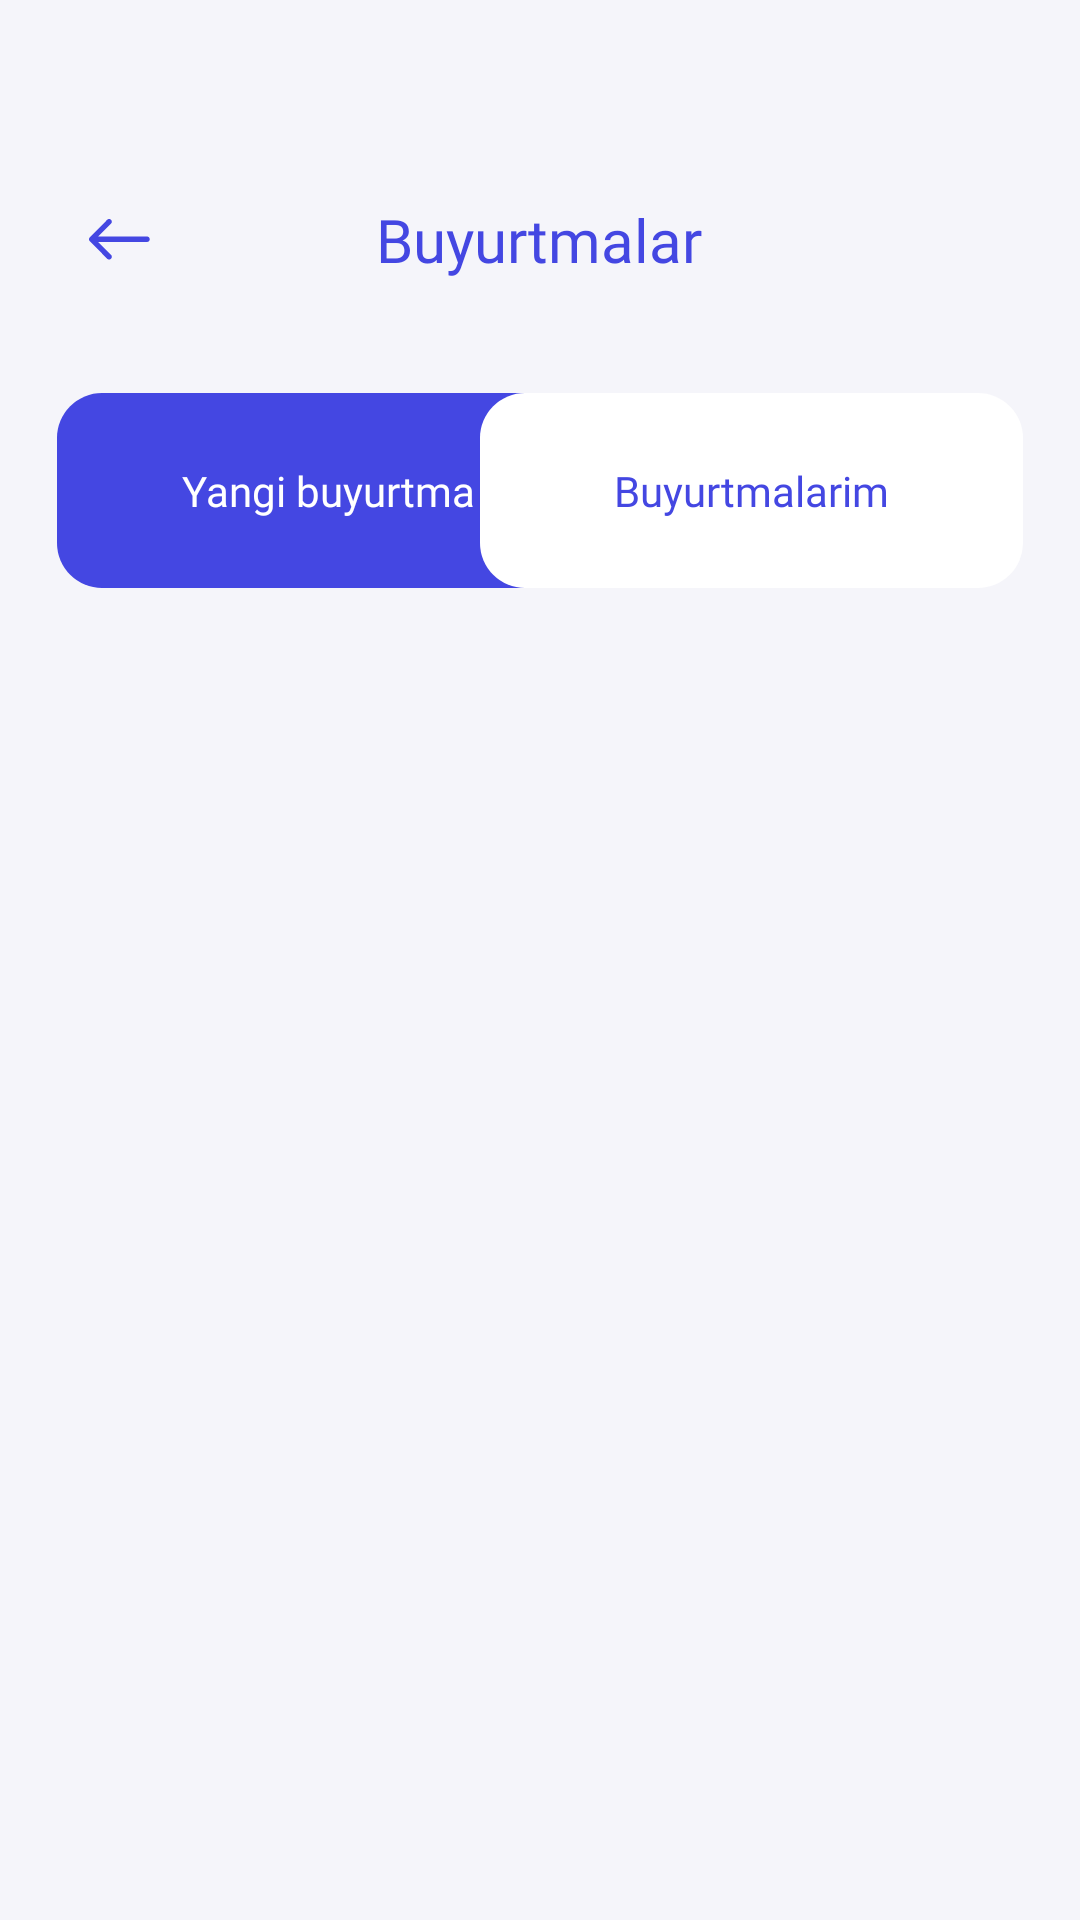

Screen size 1080px×1920px. Icon name, then its center in pixels as (x,y):
customer back: (119,239)
